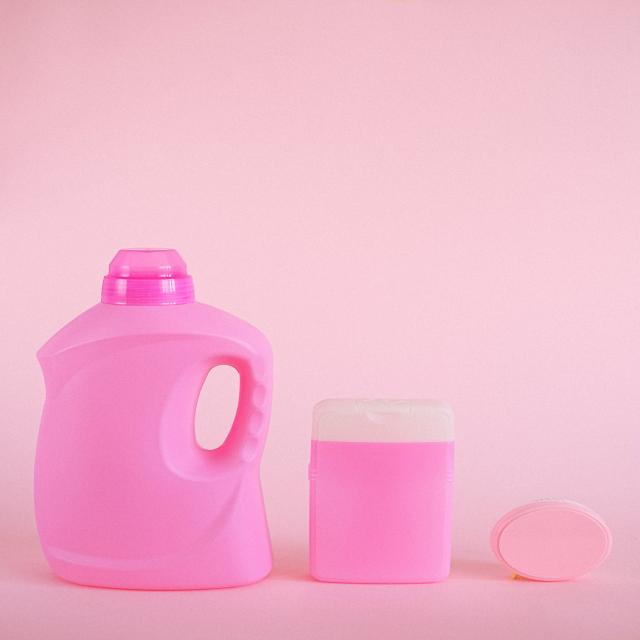plastic: (70, 324, 258, 559), (321, 446, 453, 580), (507, 506, 610, 582)
